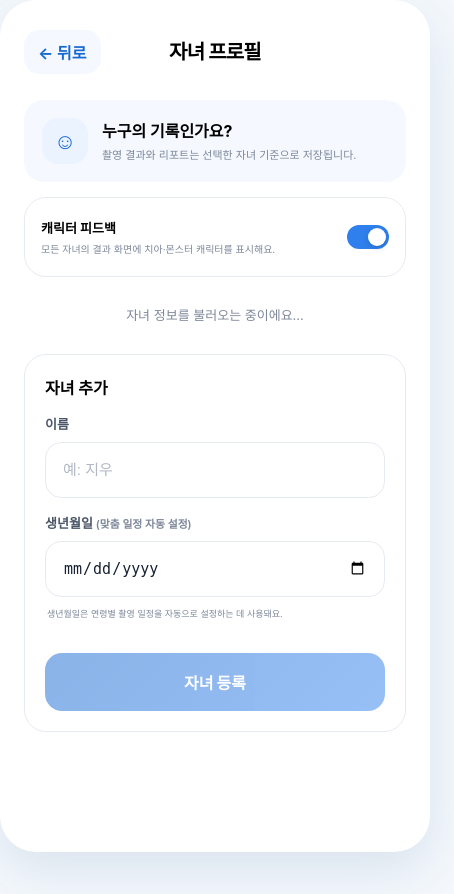
Test: 모든 자녀에게 적용되는 캐릭터 피드백 토글을 한 번만 표시한다
Click the checkbox labelled "캐릭터 피드백 모든 자녀의 결과 화면에 치아·몬스터 캐릭터를 표시해요." at (78, 228), box [41,220,389,255]
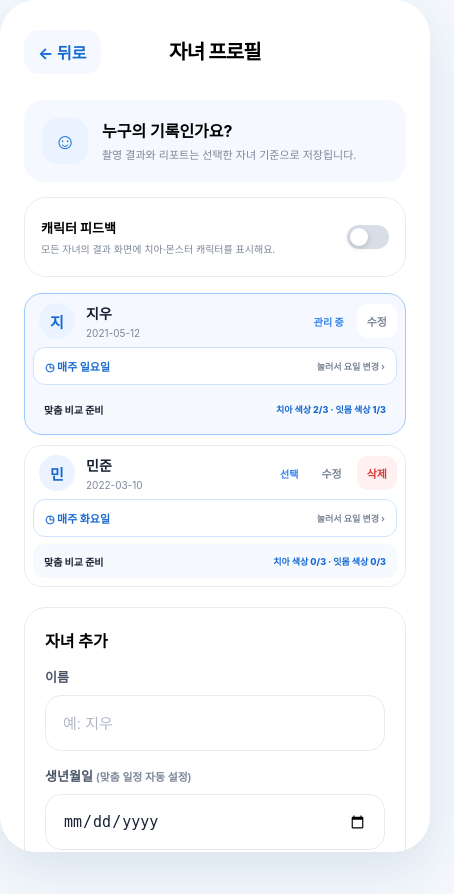
Expected: the checkbox labelled "캐릭터 피드백 모든 자녀의 결과 화면에 치아·몬스터 캐릭터를 표시해요." is not checked, [41,220,389,255]
Expected: the text "치아 색상 2/3 · 잇몸 색상 1/3" is shown, [276,402,386,416]
